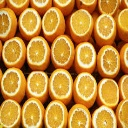orange: (1, 66, 26, 101), (26, 34, 49, 70), (44, 97, 68, 128)
